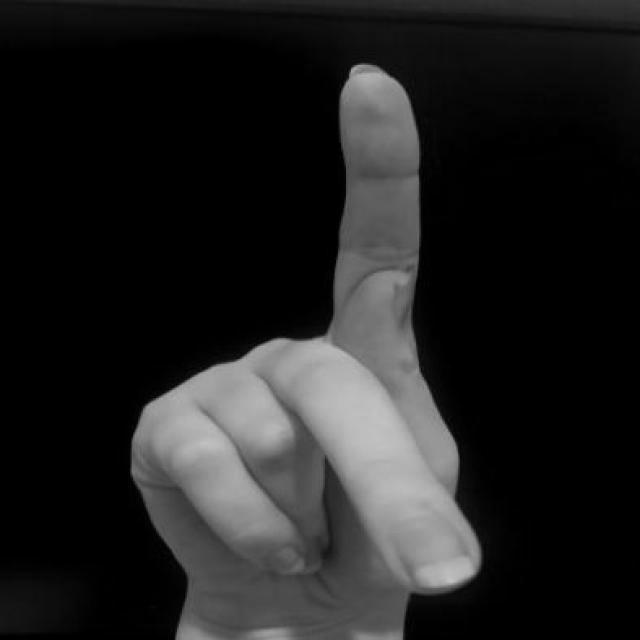P: (118, 53, 496, 600)
